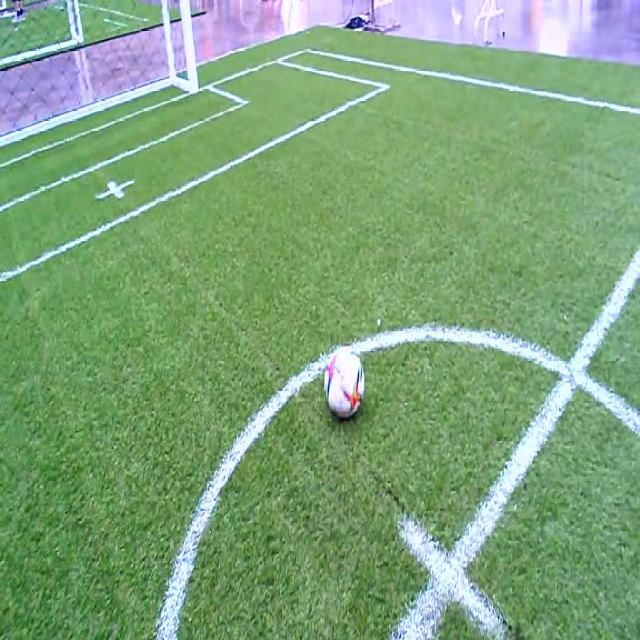ball: (325, 346, 365, 414)
